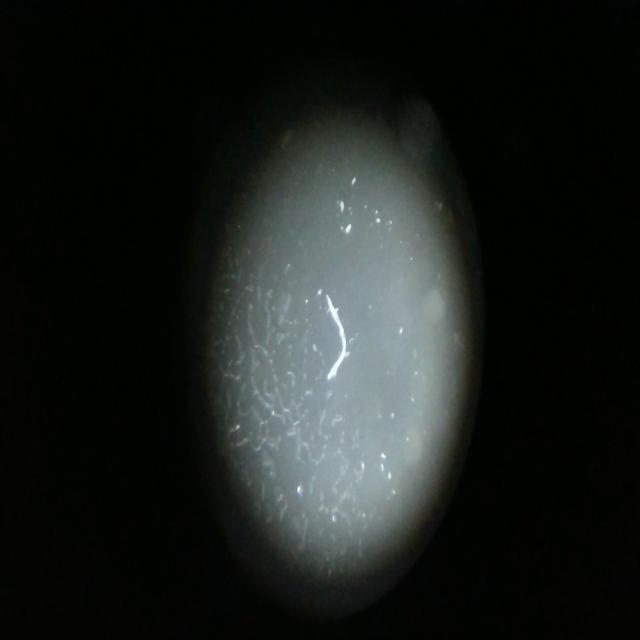psudo-nitzschia: (317, 285, 357, 401)
